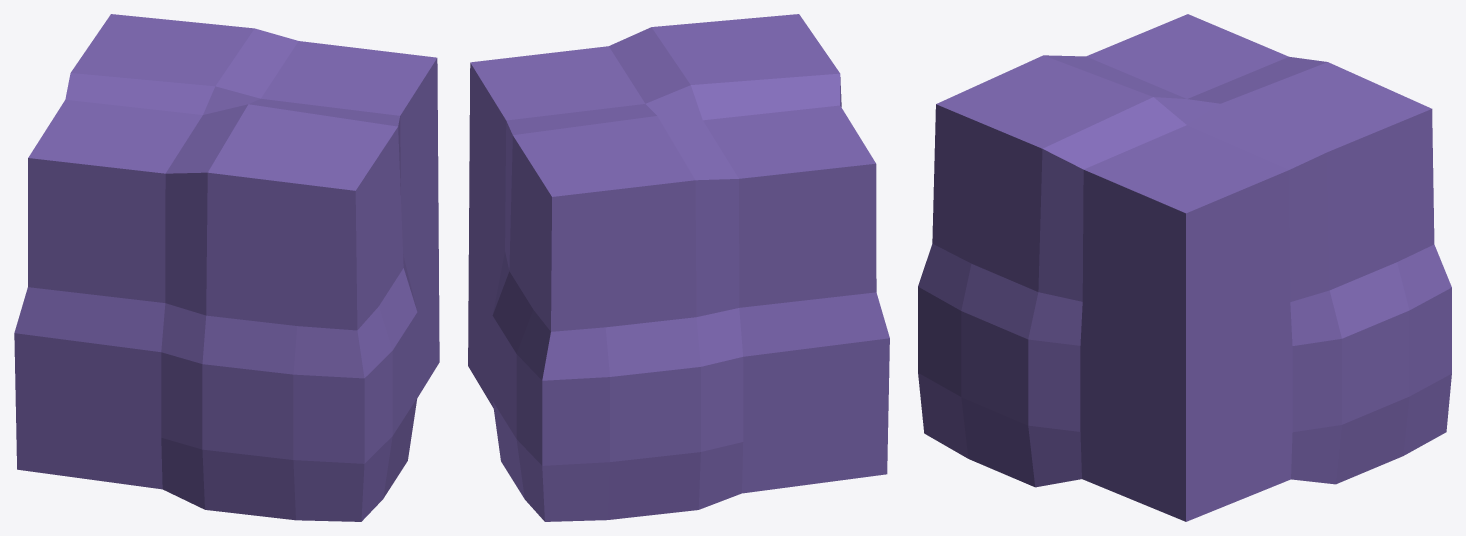
The model's file is Epic.fbx.
3 views of the same model, side by side, from view 1: azimuth 30°, elevation 25°; view 2: azimuth 150°, elevation 25°; view 3: azimuth 270°, elevation 25° (orthographic).
Parts seen in each view (by area): view 1: Cube; view 2: Cube; view 3: Cube.
Part boxes in pixels (x1,y1,x2,y2): Cube: (14,14,439,521); Cube: (468,14,889,521); Cube: (918,14,1451,521).
Size of the model in its own units: 94.8 by 74.12 by 103.
